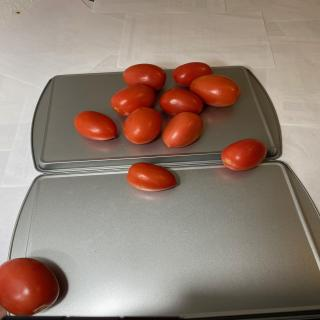Chilli: (74, 61, 242, 148)
Tomato: (0, 257, 60, 316), (190, 74, 242, 107), (126, 162, 177, 192), (162, 111, 203, 148), (221, 138, 267, 170), (124, 107, 162, 144), (110, 85, 155, 116), (74, 110, 117, 141), (122, 63, 166, 91), (159, 88, 203, 115), (172, 62, 213, 87)
